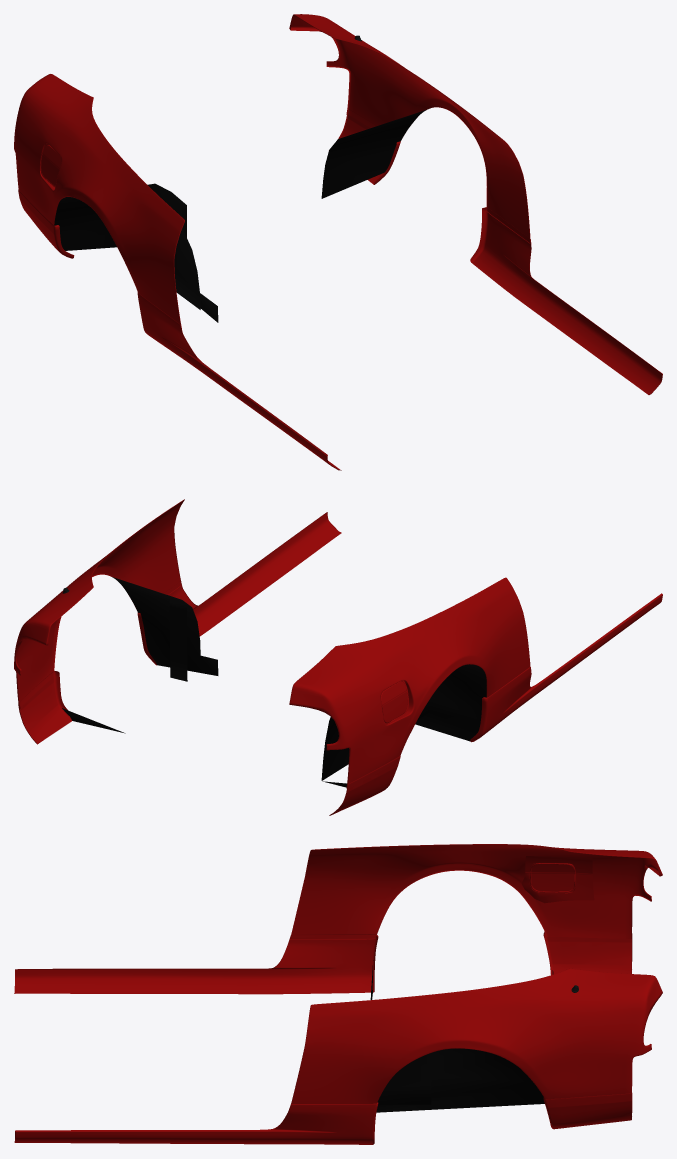
File: rearfenders_ishikawabody.glb
3 renders of one model, top to bottom at view 1: azimuth 30°, elevation 25°; view 2: azimuth 150°, elevation 25°; view 3: azimuth 270°, elevation 25°, orthographic.
Visible parts, largest first — view 1: Fenders, Undercarriage; view 2: Fenders, Undercarriage, Fuel Trap; view 3: Fenders, Undercarriage, Fuel Trap.
Boxes of the visible parts, x1,y1,x2,y2 form: Fenders: [14, 14, 662, 470]; Undercarriage: [54, 109, 428, 322]; Fenders: [14, 499, 662, 815]; Undercarriage: [62, 577, 486, 787]; Fuel Trap: [381, 680, 408, 724]; Fenders: [14, 844, 662, 1144]; Undercarriage: [370, 960, 553, 1112]; Fuel Trap: [521, 856, 594, 903].
Bounding box in the file's own units: 1.78 × 0.738 × 2.73.
